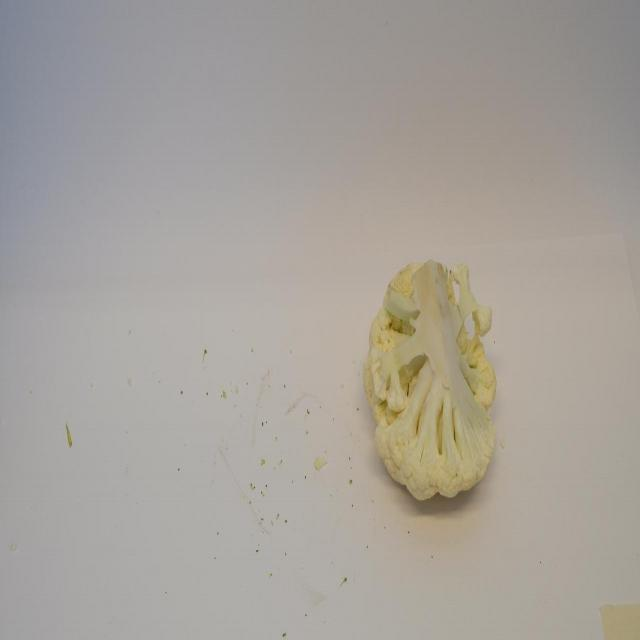cauliflower: (362, 251, 499, 521)
